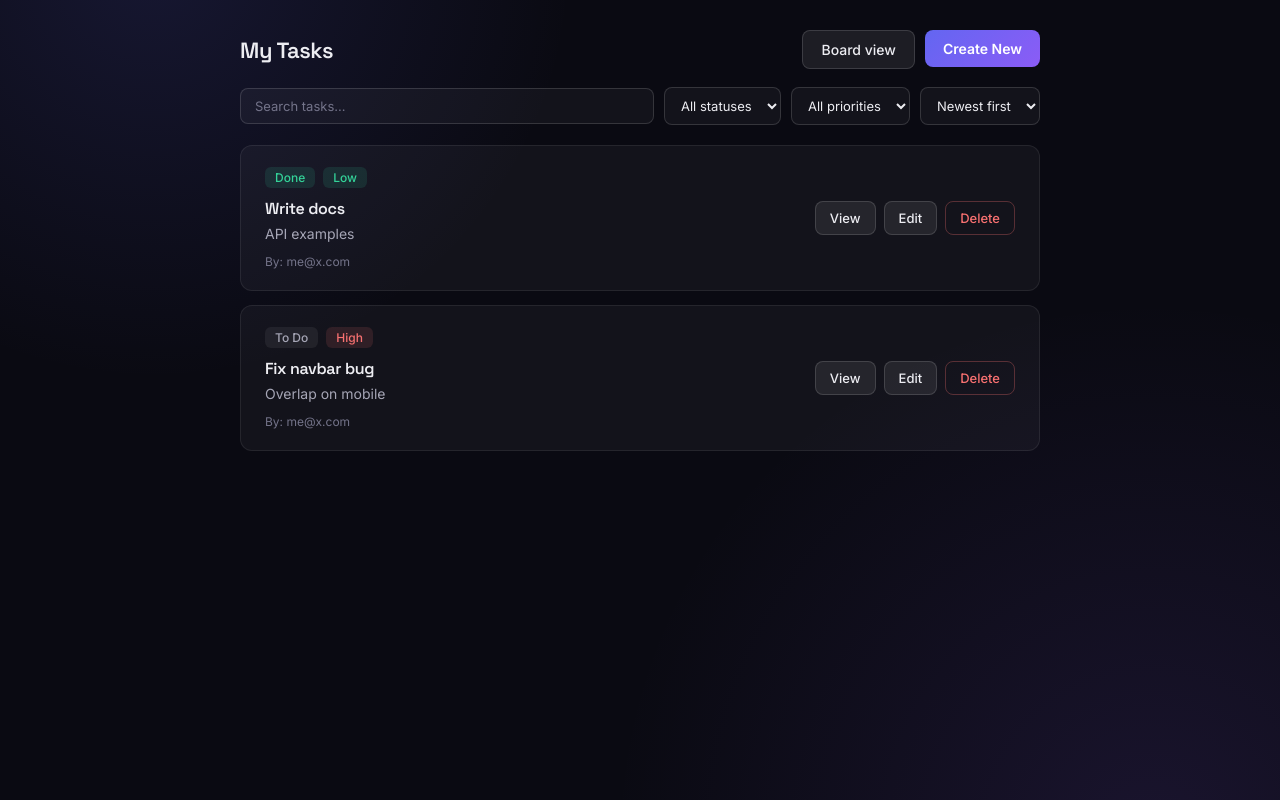
Test case: AllItems › filters tasks by status
Check: the heading "Fix navbar bug" is shown, box [265,358,386,379]
Select "Done" in the 1st dropdown showing "All statuses". click: coordinates (722, 106)
box: [664,87,781,125]
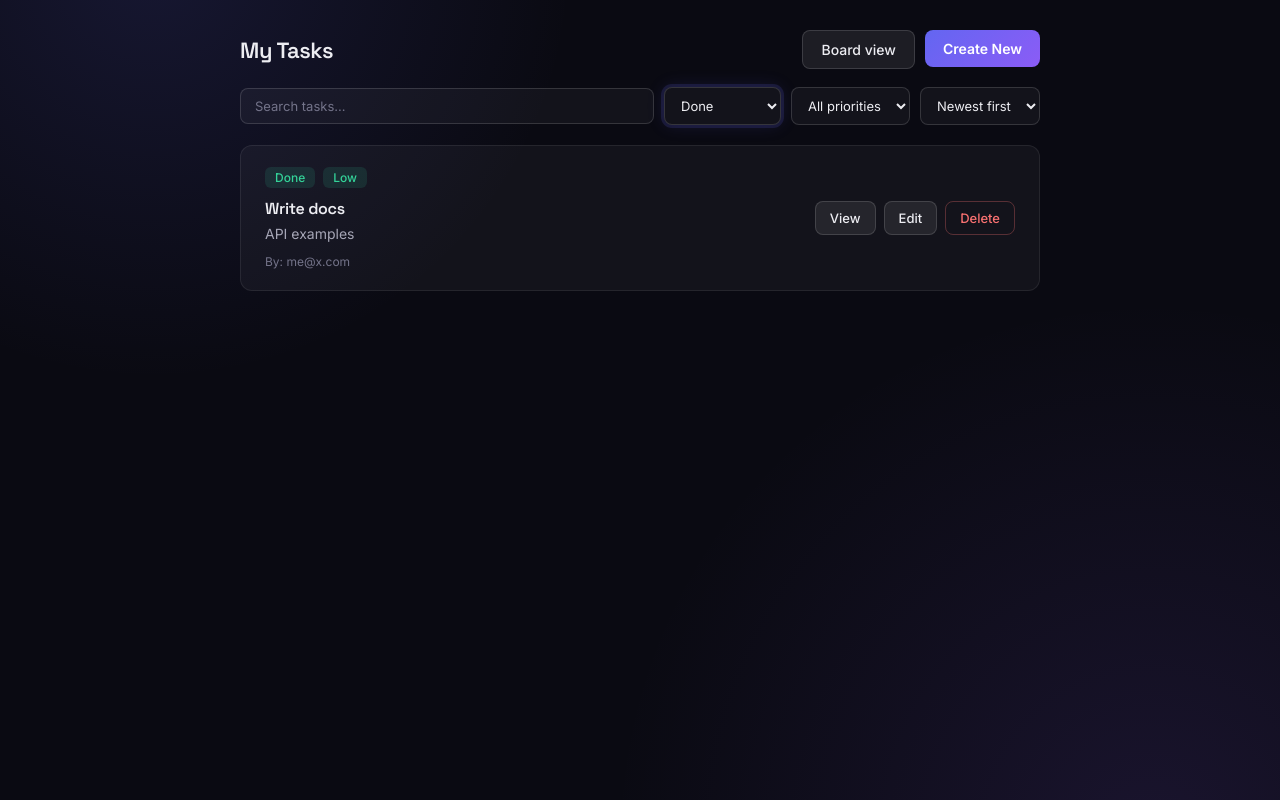
Check: the heading "Write docs" is shown, box [265,198,345,219]
Check: the heading "Fix navbar bug" is gone
